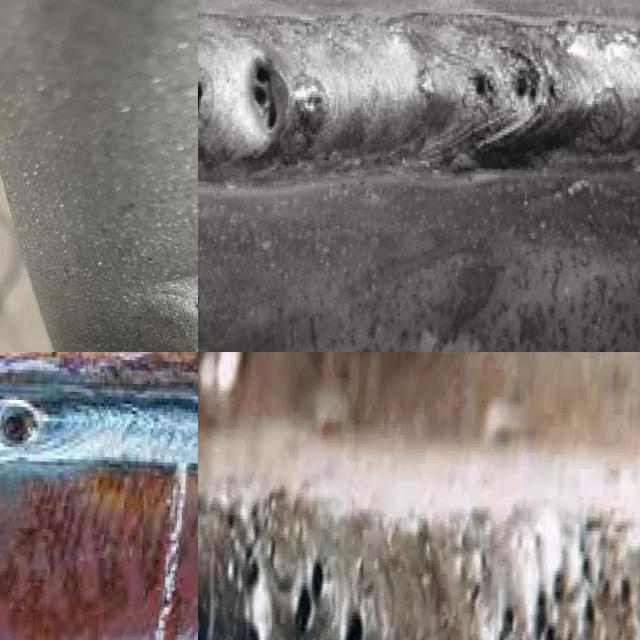defect: (492, 510, 640, 640), (245, 45, 293, 152), (220, 491, 265, 602), (509, 45, 563, 117), (289, 550, 327, 639), (0, 393, 42, 460), (464, 57, 499, 117), (464, 547, 493, 606), (198, 50, 211, 137), (244, 616, 265, 640)
